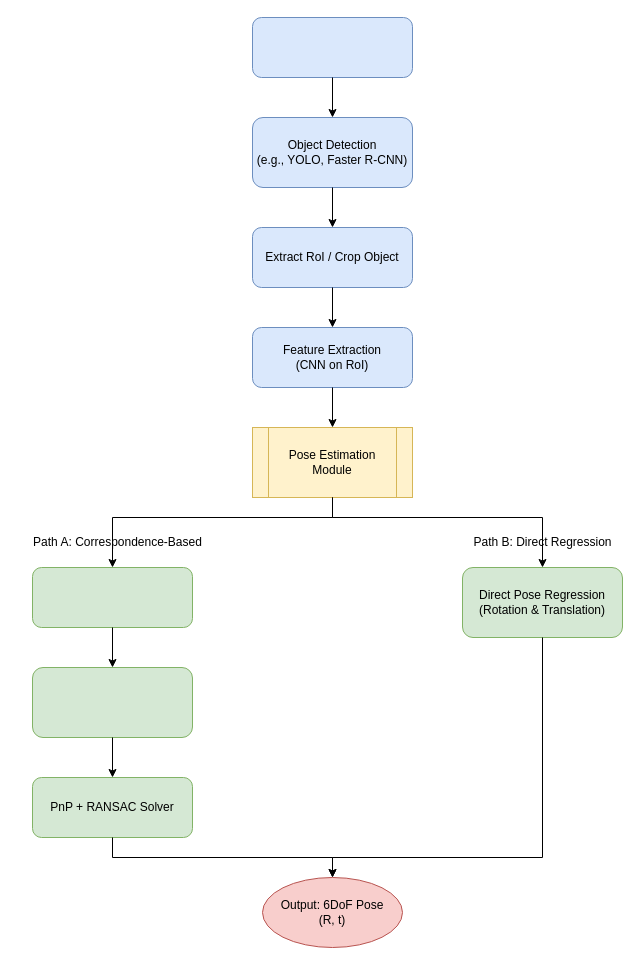
This 640x965 diagram has some shape labels left out. The shapes that lost their labels are listed below. From the top down, each one's centre as x and y in pixels, then its label:
At point 332,47: "Input RGB Image".
At point 112,597: "2D Keypoint Prediction".
At point 112,702: "Establish 2D-3D Correspondences".
